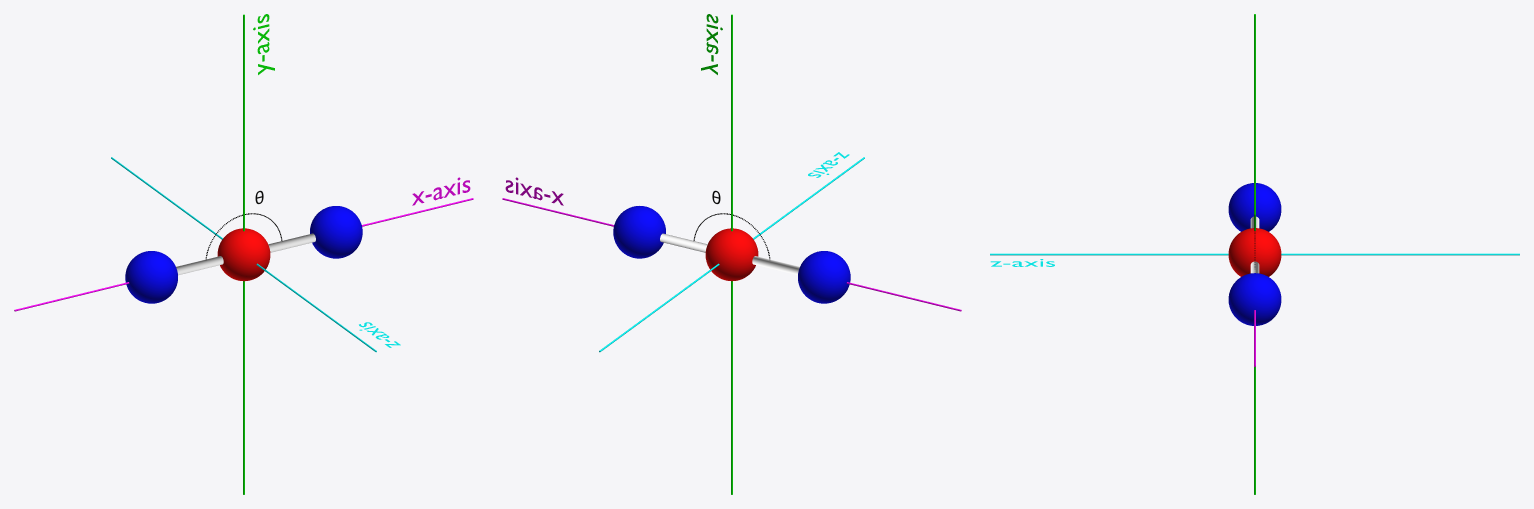
Rendered from linear_coor.glb.
3 views of the same model, side by side, from view 1: azimuth 30°, elevation 25°; view 2: azimuth 150°, elevation 25°; view 3: azimuth 270°, elevation 25° (orthographic).
Visible parts, largest first — view 1: linear, Cylinder, Cylinder.002, Cylinder.001; view 2: linear, Cylinder, Cylinder.002, Cylinder.001; view 3: linear, Cylinder.002, Cylinder.
Boxes of the visible parts, x1,y1,x2,y2 form: linear: (125, 206, 362, 303); Cylinder: (243, 14, 244, 494); Cylinder.002: (111, 157, 376, 352); Cylinder.001: (14, 198, 473, 311); linear: (613, 206, 850, 303); Cylinder: (731, 14, 732, 494); Cylinder.002: (599, 157, 864, 352); Cylinder.001: (502, 198, 961, 311); linear: (1228, 183, 1281, 325); Cylinder.002: (990, 253, 1519, 255); Cylinder: (1254, 14, 1255, 494).
Bounding box in the file's own units: 6 × 6 × 6.
11 materials, 1 textured.
